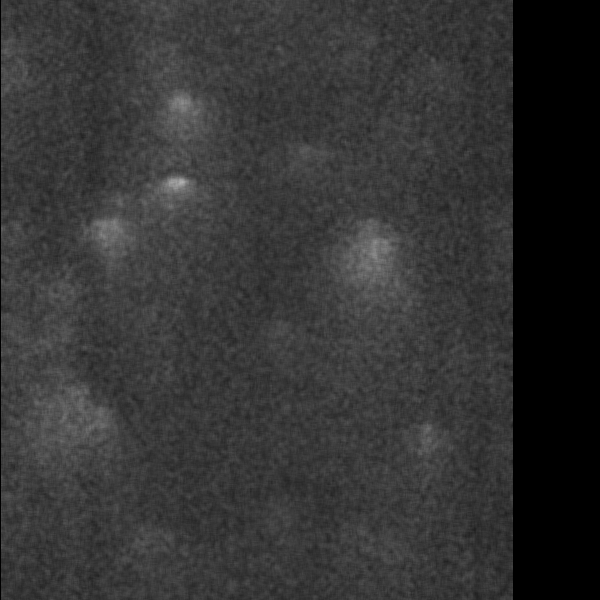spark: (339, 209, 399, 332), (78, 204, 134, 290), (162, 89, 203, 145), (156, 170, 196, 204)
